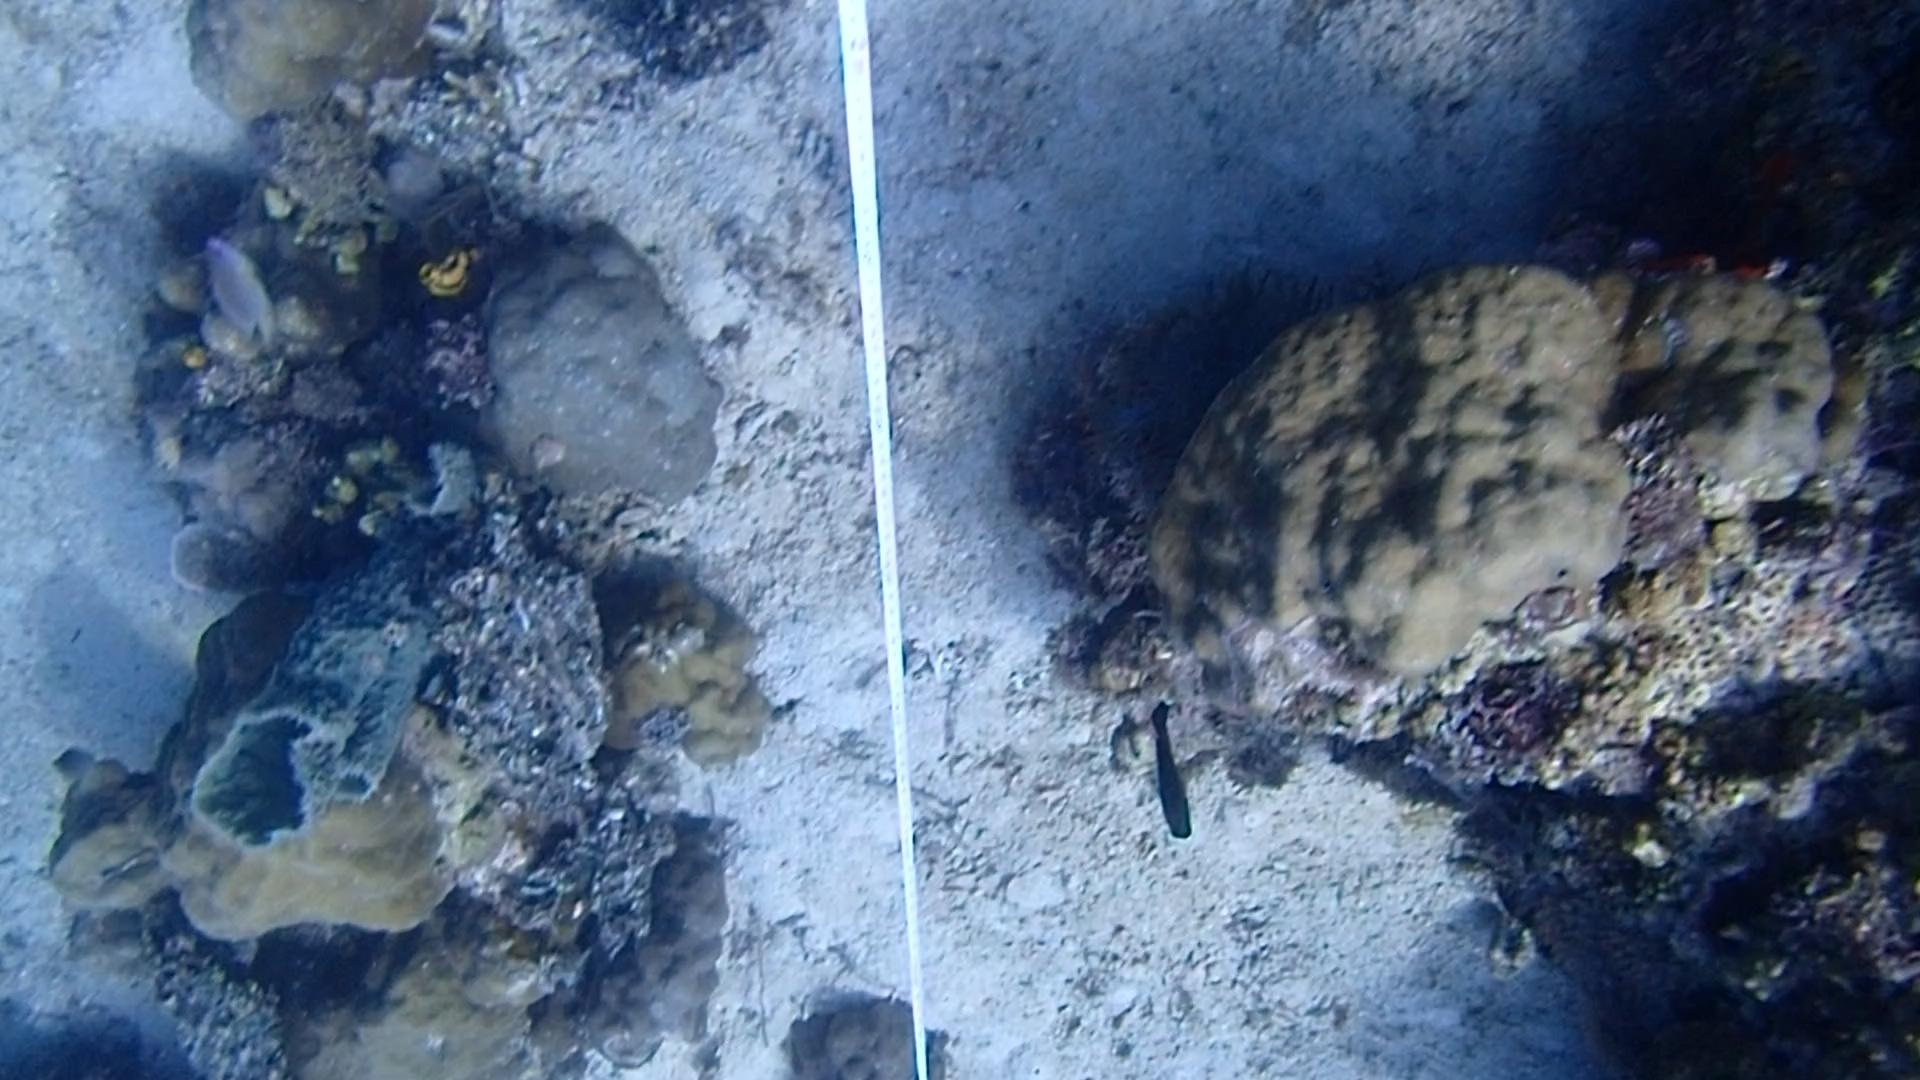Blue Nose Fish: (199, 228, 282, 363)
Dark Fish: (1124, 695, 1205, 844)
